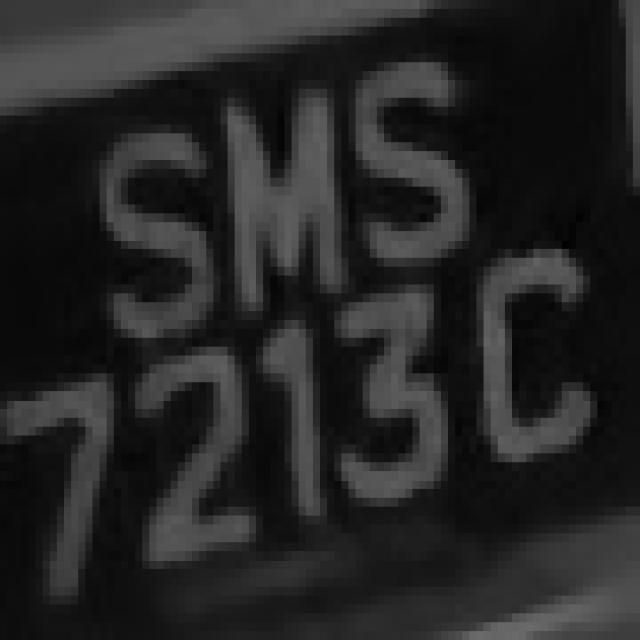1: (256, 302, 334, 551)
2: (107, 329, 263, 569)
3: (327, 258, 448, 551)
7: (14, 355, 113, 640)
C: (476, 258, 618, 480)
M: (199, 89, 356, 284)
S: (341, 54, 491, 302), (78, 98, 220, 346)
